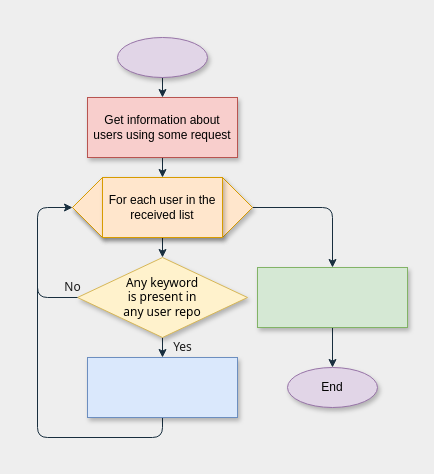
Some shapes in this 434 by 474 pixel diagram are drawn without their labels. The centre of each missing label's shape, as x and y in pixels:
Add user into the result table: point (163, 388)
Save information into .xlsx or .csv file: point (333, 298)
Start: point (163, 58)
